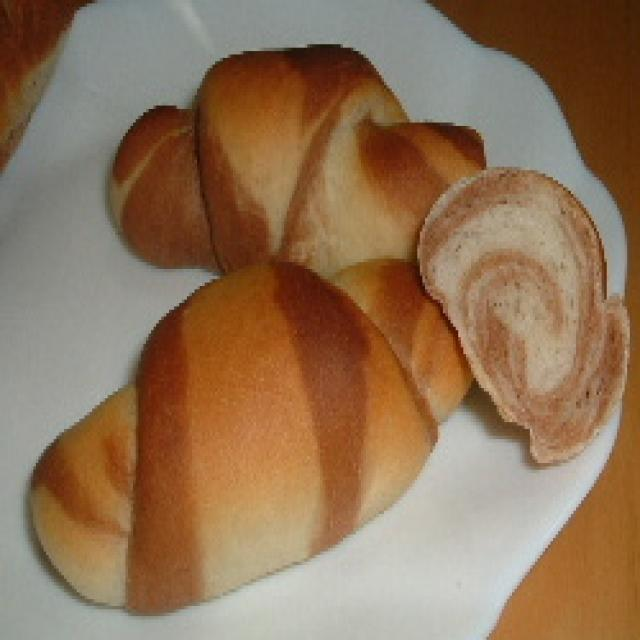面包点心: (41, 98, 640, 640)
